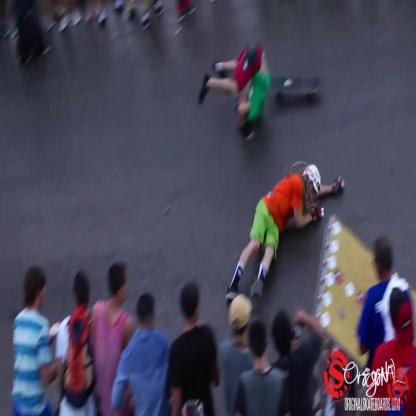Fall_Down: (223, 160, 346, 309)
